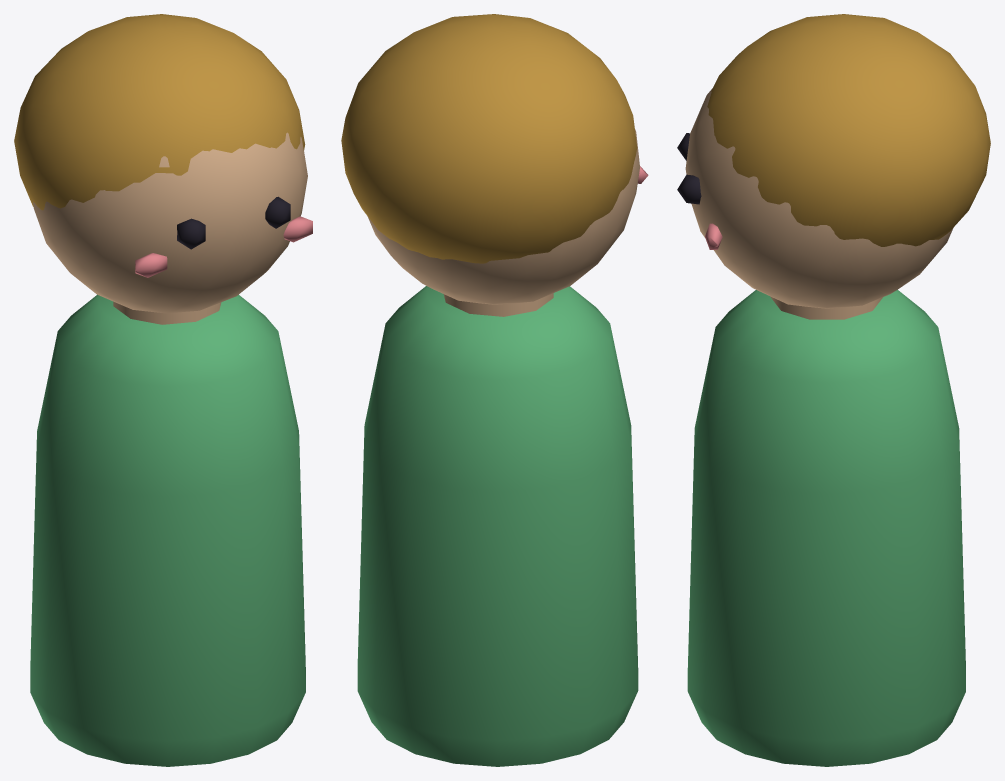
Rendered from person_kid.fbx.
3 views of the same model, side by side, from view 1: azimuth 30°, elevation 25°; view 2: azimuth 150°, elevation 25°; view 3: azimuth 270°, elevation 25° (orthographic).
Visible parts, largest first — view 1: Body, Head; view 2: Body, Head; view 3: Body, Head.
Boxes of the visible parts, bbox=[...] form: Body: bbox=[30, 294, 305, 766]; Head: bbox=[14, 14, 312, 313]; Body: bbox=[357, 286, 638, 766]; Head: bbox=[341, 14, 648, 304]; Body: bbox=[687, 289, 965, 766]; Head: bbox=[677, 14, 990, 308].
Bounding box in the file's own units: 0.1622 × 0.4208 × 0.1732.
